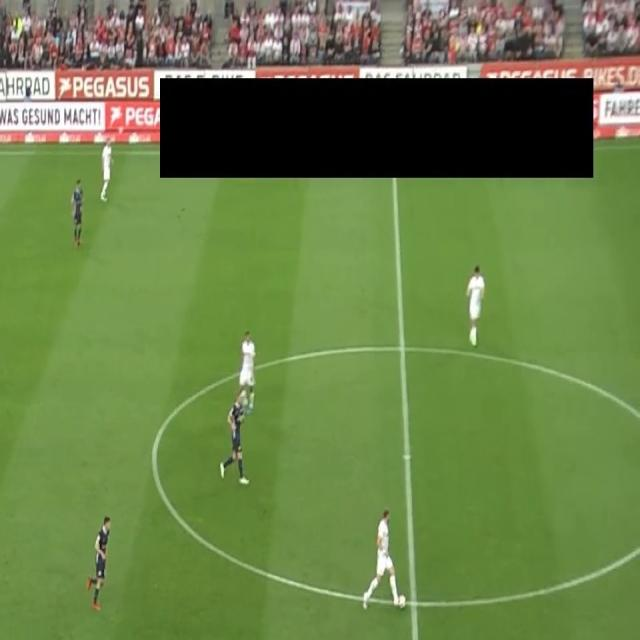ball: (398, 594, 407, 610)
